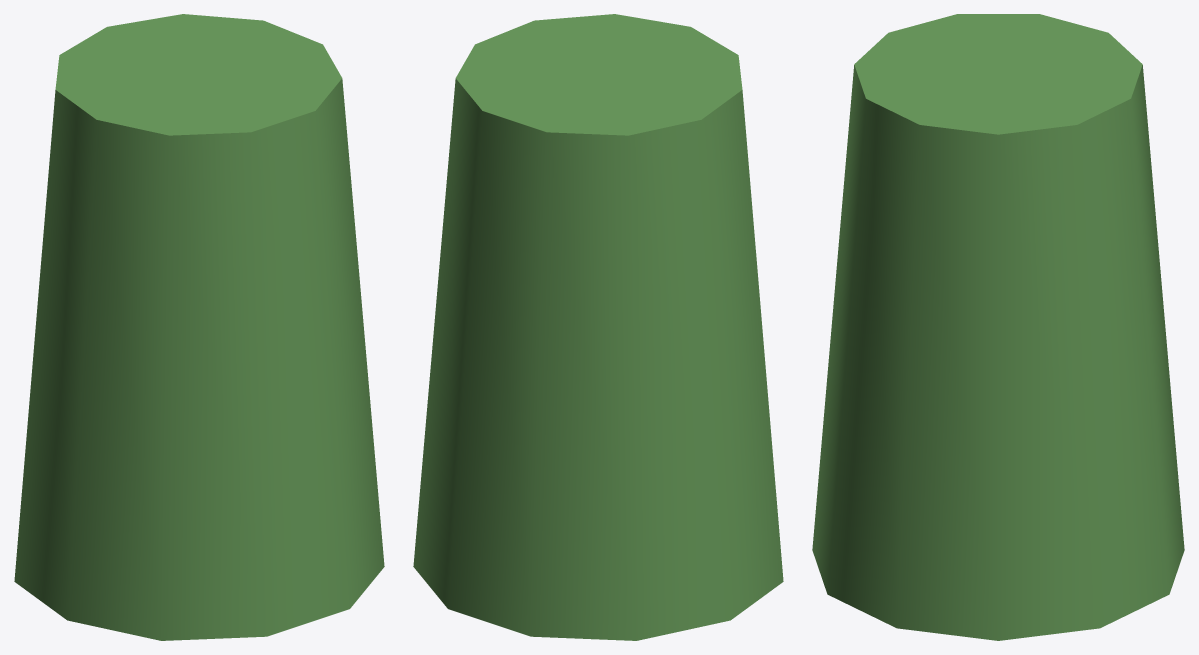
File: SM_Chairs_01.fbx
3 views of the same model, side by side, from view 1: azimuth 30°, elevation 25°; view 2: azimuth 150°, elevation 25°; view 3: azimuth 270°, elevation 25° (orthographic).
Parts seen in each view (by area): view 1: SM_Chairs_01; view 2: SM_Chairs_01; view 3: SM_Chairs_01.
Boxes of the visible parts, x1,y1,x2,y2 form: SM_Chairs_01: (14,14,384,640); SM_Chairs_01: (413,14,783,640); SM_Chairs_01: (812,14,1184,640).
Bounding box in the file's own units: 32.07 × 46.91 × 32.4.
Materials: 1 (1 with a texture image).
